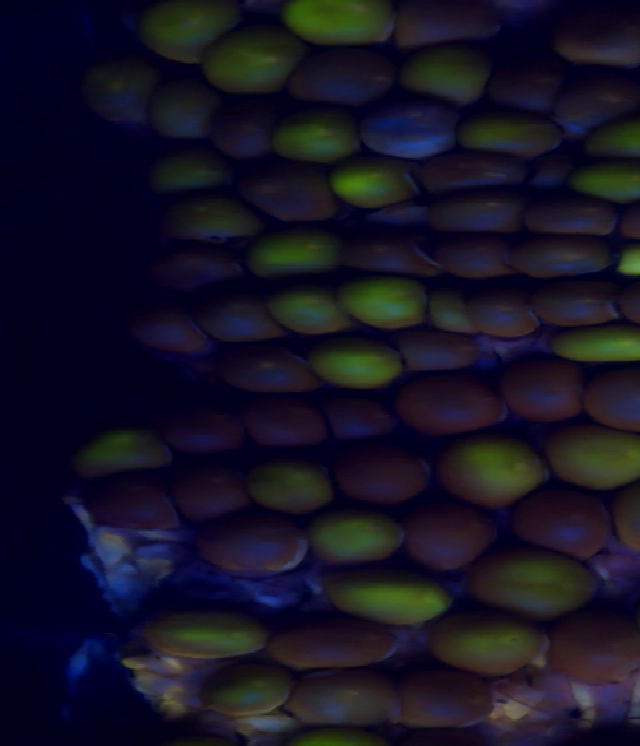fluorescent: (476, 546, 605, 615), (440, 436, 546, 507), (432, 612, 556, 670), (146, 610, 271, 665), (329, 569, 443, 625), (402, 46, 495, 110), (208, 31, 301, 94), (141, 1, 229, 66), (307, 508, 405, 566), (325, 156, 419, 211), (550, 426, 640, 483), (191, 667, 293, 717), (264, 286, 356, 341), (305, 343, 405, 393), (287, 1, 388, 46), (355, 273, 426, 335), (457, 112, 553, 157), (270, 118, 362, 162), (147, 77, 207, 143), (247, 234, 346, 274), (77, 431, 169, 474), (247, 466, 333, 512), (145, 155, 232, 200), (176, 200, 259, 245), (552, 324, 640, 366), (571, 163, 640, 207), (419, 283, 473, 335), (97, 65, 155, 107), (583, 124, 640, 163), (293, 729, 390, 746)
nonfluorescent: (193, 508, 311, 581), (512, 483, 618, 559), (267, 608, 401, 665), (283, 48, 402, 112), (550, 604, 640, 680), (546, 1, 640, 66), (87, 476, 180, 541), (495, 353, 577, 425), (400, 374, 502, 429), (400, 669, 497, 725), (409, 498, 485, 569), (124, 298, 207, 363), (171, 457, 257, 518), (214, 346, 321, 394), (390, 1, 494, 49), (321, 394, 400, 457), (328, 449, 425, 500), (362, 112, 460, 162), (239, 395, 329, 449), (162, 398, 245, 456), (509, 241, 616, 283), (250, 174, 336, 226), (201, 291, 280, 346), (484, 50, 557, 108), (212, 94, 274, 162), (433, 190, 526, 235), (467, 286, 538, 343), (395, 331, 478, 376), (536, 281, 619, 326), (584, 372, 640, 438), (166, 246, 236, 297), (526, 193, 611, 235), (353, 238, 442, 276), (424, 165, 529, 195), (563, 86, 638, 126), (431, 238, 511, 274), (360, 203, 433, 242)
